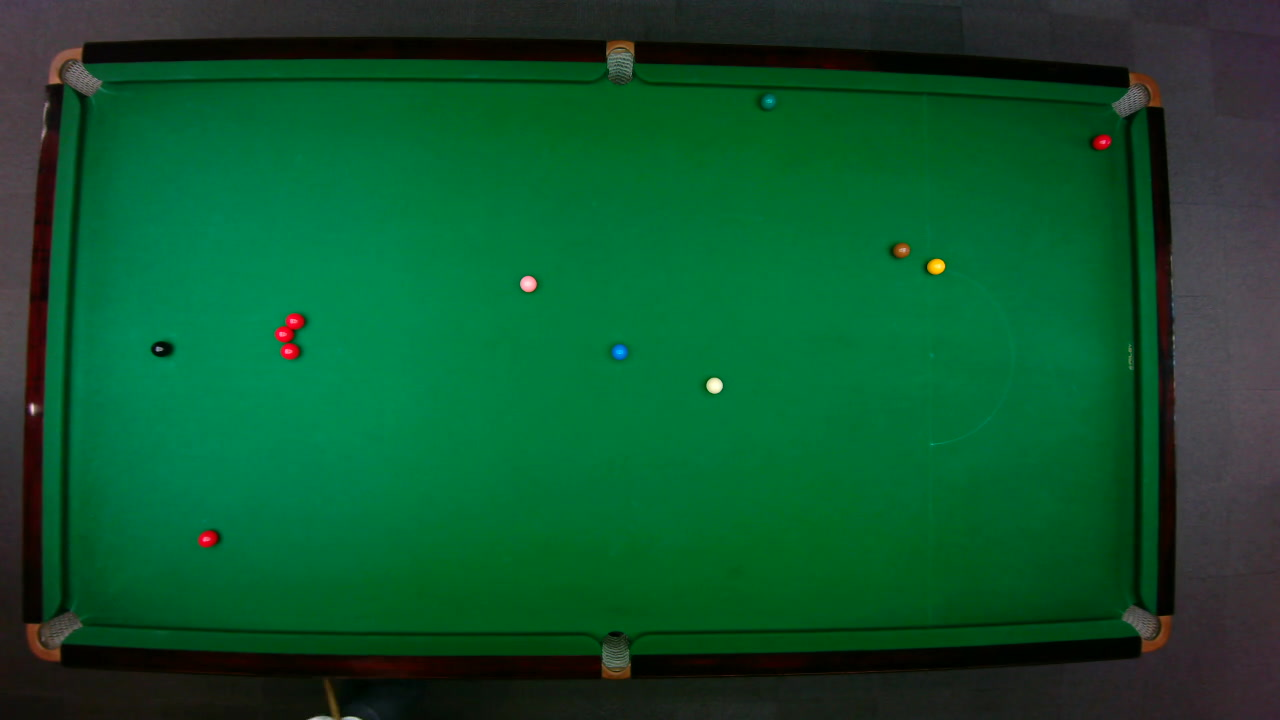bag: (24, 609, 83, 661), (46, 46, 102, 97), (1119, 603, 1172, 652), (1108, 71, 1162, 118), (600, 629, 629, 680), (605, 38, 633, 85)
black: (149, 339, 172, 357)
blue: (610, 343, 628, 360)
brown: (890, 240, 911, 258)
green: (759, 92, 776, 110)
pink: (518, 274, 537, 292)
red: (196, 528, 218, 547), (284, 311, 305, 330), (272, 324, 294, 342), (1090, 132, 1112, 150), (279, 342, 300, 360)
white: (704, 375, 723, 394)
yellow: (925, 256, 946, 275)
zone: (926, 266, 1014, 445)
